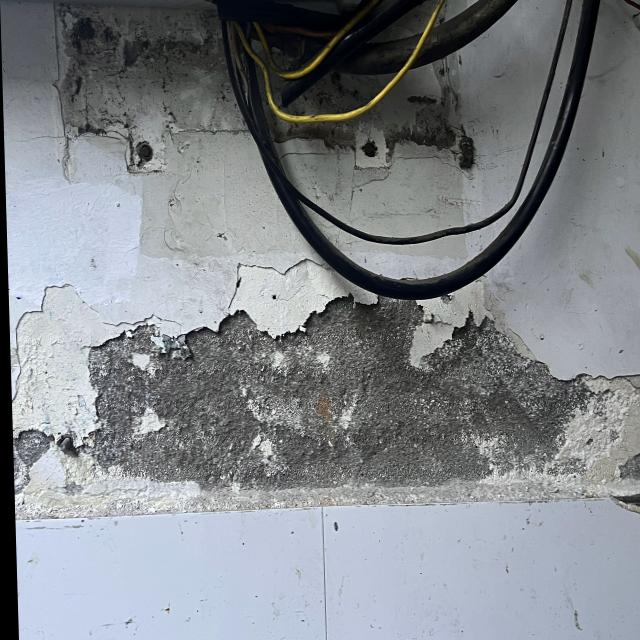spalling: (73, 290, 640, 493)
